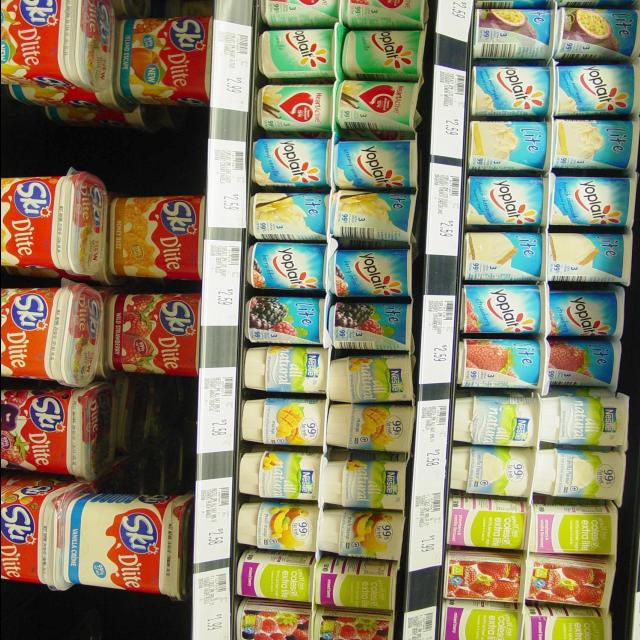empty_space: (4, 123, 192, 170), (108, 387, 192, 489), (3, 599, 176, 640)
